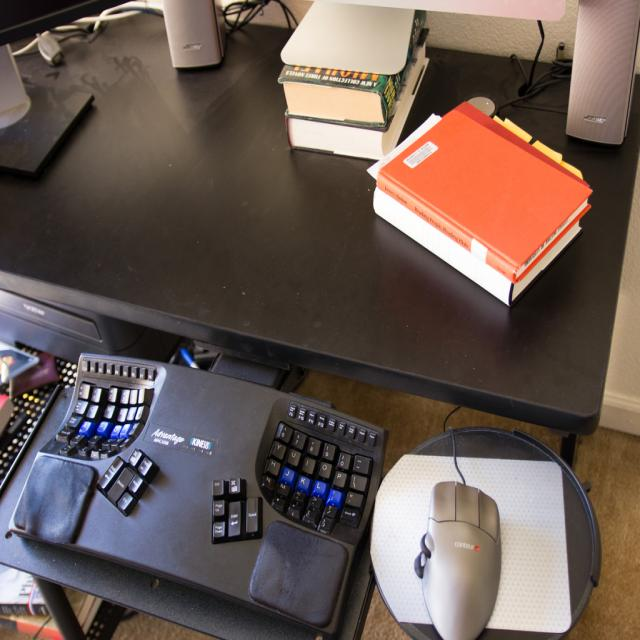Computer-mouse: (414, 482, 501, 640)
